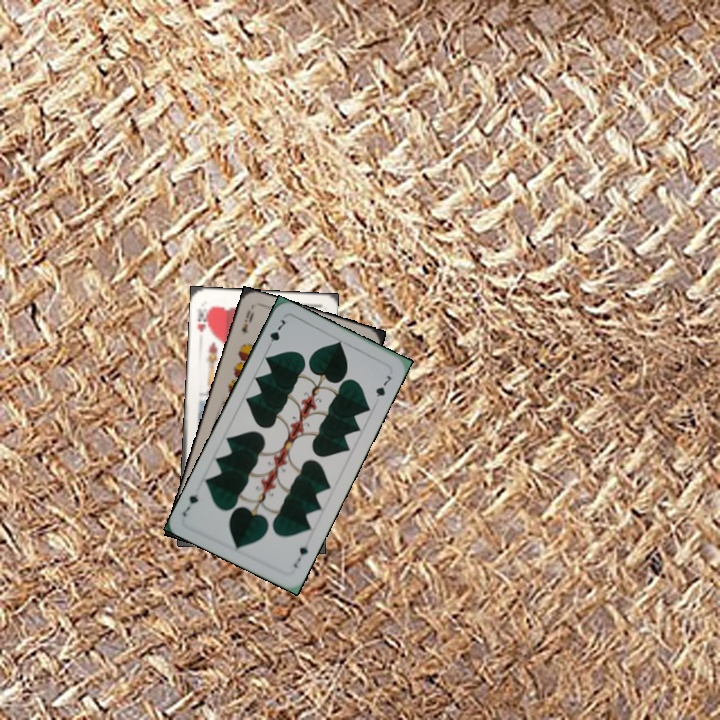E9: (238, 306, 256, 337)
G7: (263, 315, 290, 352), (290, 542, 311, 571)
HK: (193, 305, 212, 334)
